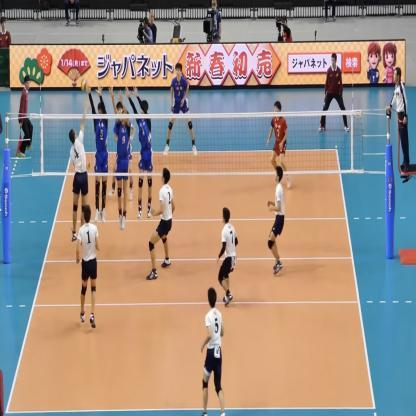spike: (64, 75, 92, 242)
